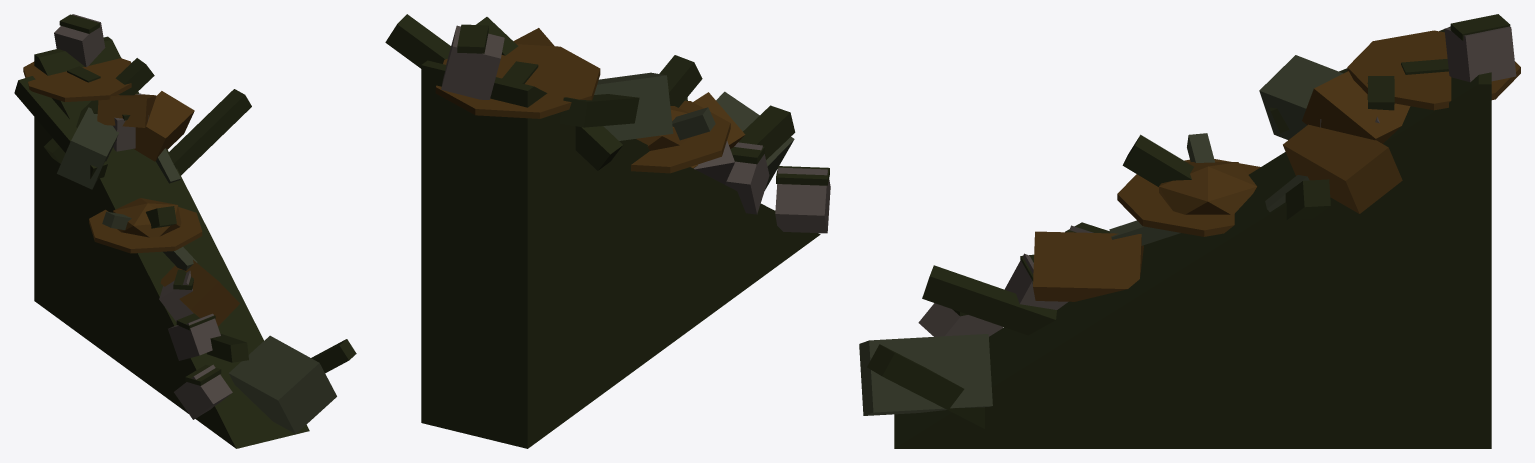
The model's file is SM_PilaZombi_Altura3_s2_LOD0.fbx.
3 renders of one model, left to right at view 1: azimuth 30°, elevation 25°; view 2: azimuth 150°, elevation 25°; view 3: azimuth 270°, elevation 25°, orthographic. The views are drawn at different scales.
Parts seen in each view (by area): view 1: SM_pila_zombis_v12_LOD0; view 2: SM_pila_zombis_v12_LOD0; view 3: SM_pila_zombis_v12_LOD0.
Boxes of the visible parts, x1=… form: SM_pila_zombis_v12_LOD0: x1=14, y1=14, x2=356, y2=448; SM_pila_zombis_v12_LOD0: x1=385, y1=14, x2=830, y2=448; SM_pila_zombis_v12_LOD0: x1=859, y1=14, x2=1520, y2=448.
Bounding box in the file's own units: 1.37 × 1.88 × 2.75.
